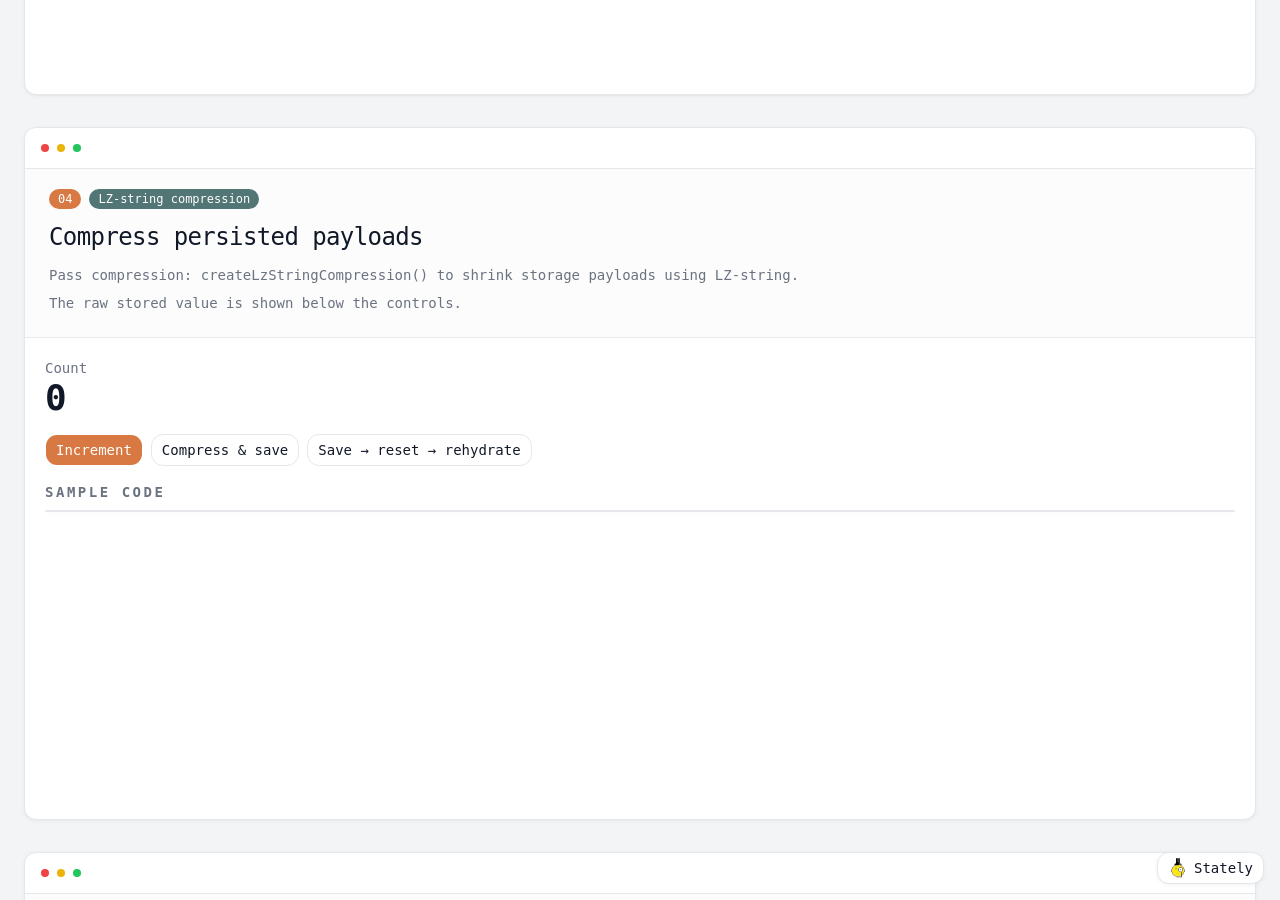
Persistence page › TTL: simulate expiry prevents rehydration
The width and height of the screenshot is (1280, 900).
(page scrolled)
Click the button "Increment".
click(94, 450)  # box [45,434,143,466]
(page scrolled)
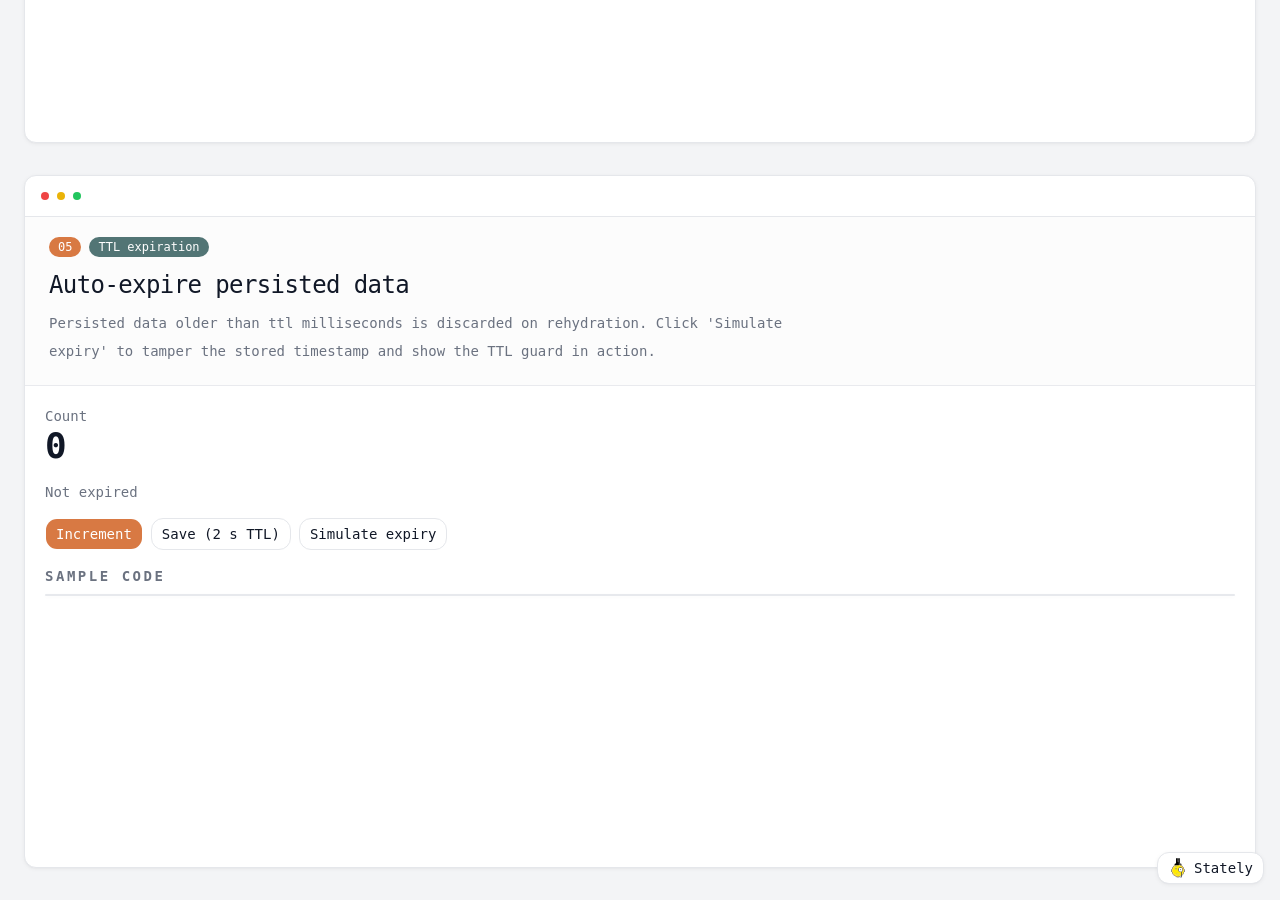
Click the button "Save (2 s TTL)".
click(221, 534)  # box [151,518,291,550]
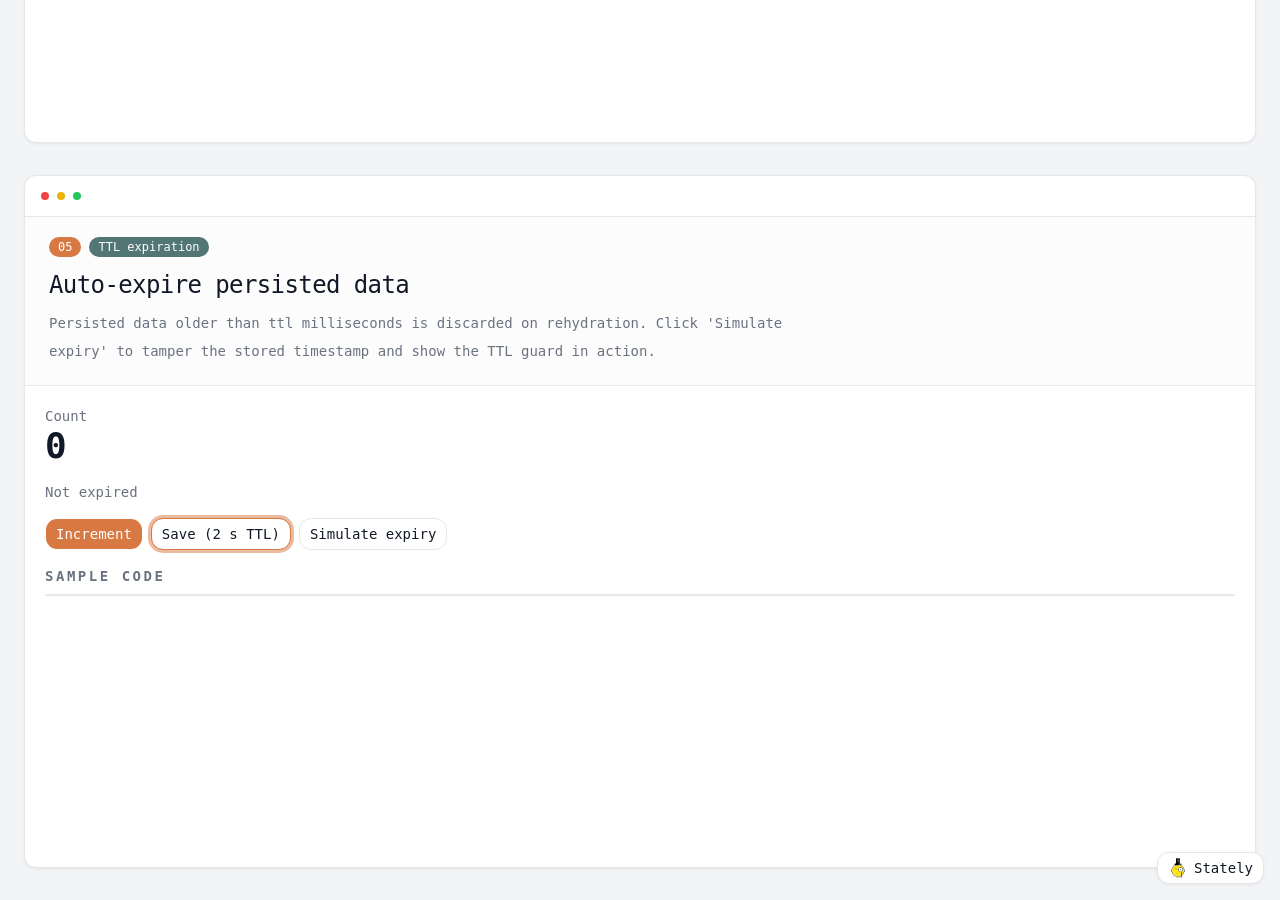
Click the button "Simulate expiry".
click(373, 534)  # box [299,518,447,550]
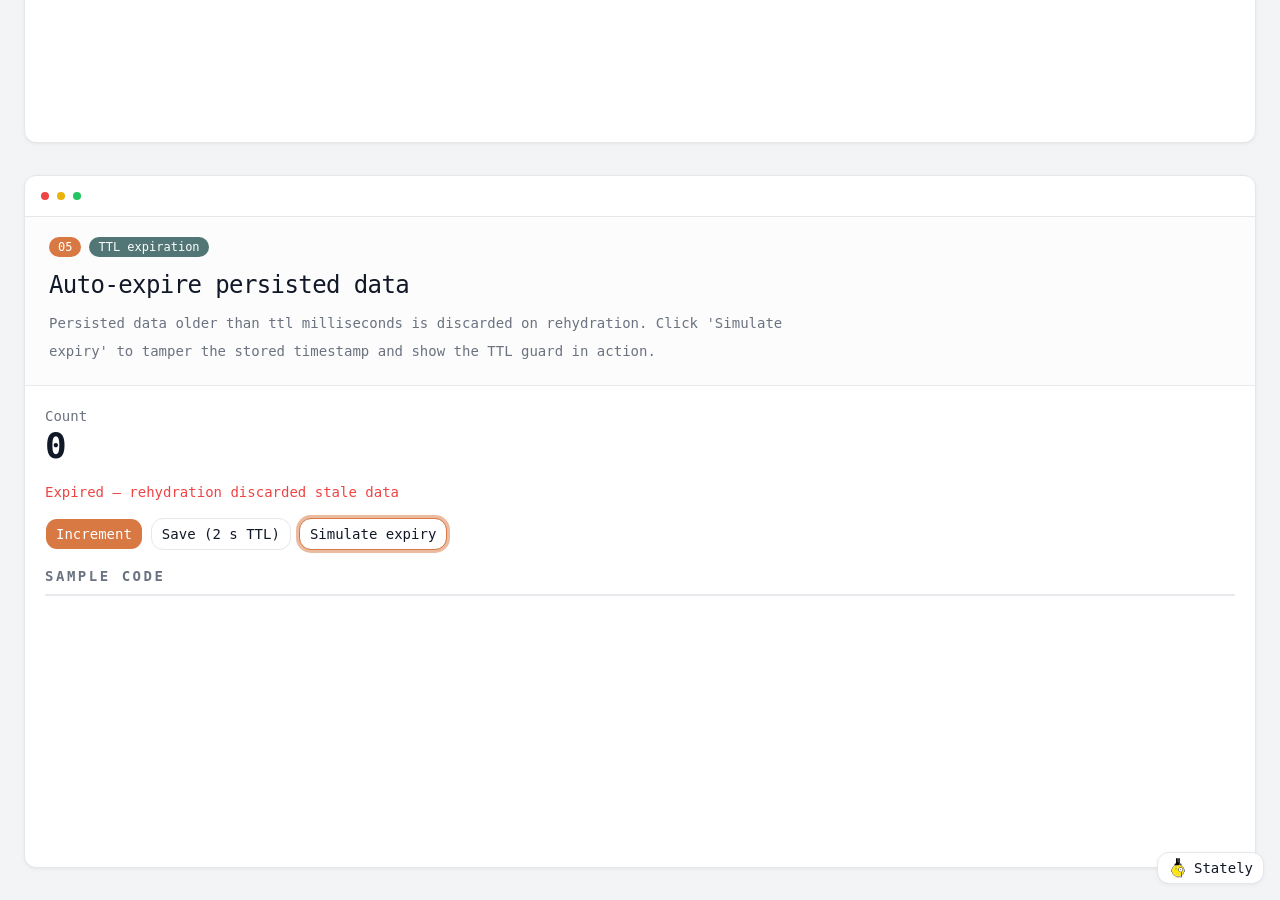
Expected: the text with test id "persist-ttl-expired" reads "Expired — rehydration discarded stale data", [45,484,399,500]
